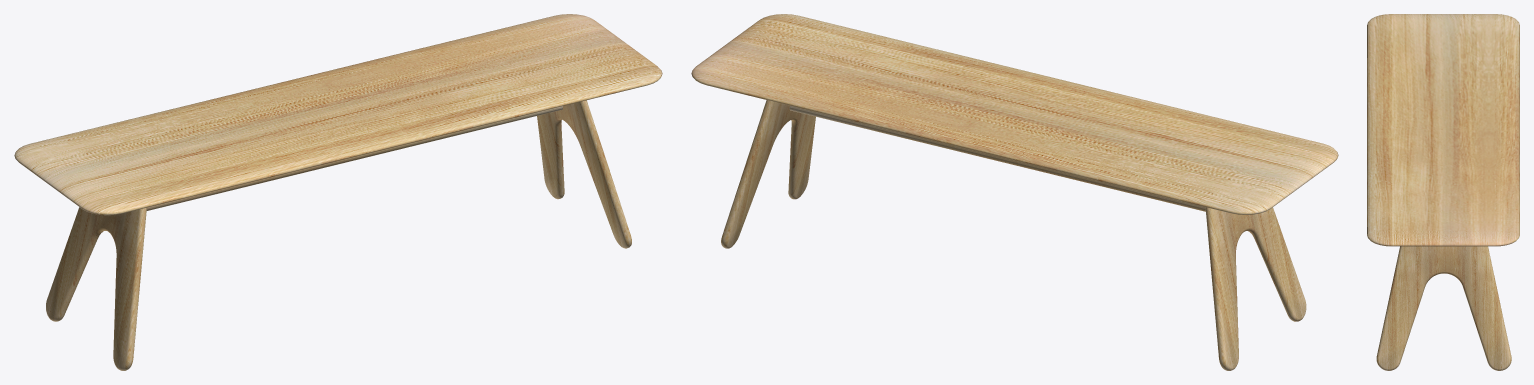
File: Slab.dae
The picture shows the model from 3 angles, left to right: view 1: azimuth 30°, elevation 25°; view 2: azimuth 150°, elevation 25°; view 3: azimuth 270°, elevation 25°; orthographic projection. The views are drawn at different scales.
Parts seen in each view (by area): view 1: ChamferBox01, Line03, Line04, Box01; view 2: ChamferBox01, Line03, Line04, Box01; view 3: ChamferBox01, Line04.
Boxes of the visible parts, x1,y1,x2,y2 form: ChamferBox01: [14, 14, 662, 215]; Line03: [46, 207, 146, 370]; Line04: [537, 100, 631, 248]; Box01: [146, 106, 562, 210]; ChamferBox01: [691, 14, 1338, 214]; Line03: [1205, 207, 1306, 370]; Line04: [721, 100, 815, 248]; Box01: [789, 106, 1205, 211]; ChamferBox01: [1367, 14, 1519, 246]; Line04: [1376, 246, 1511, 370].
Bounding box in the file's own units: 160 × 44.77 × 46.39.
1 material, 1 textured.
